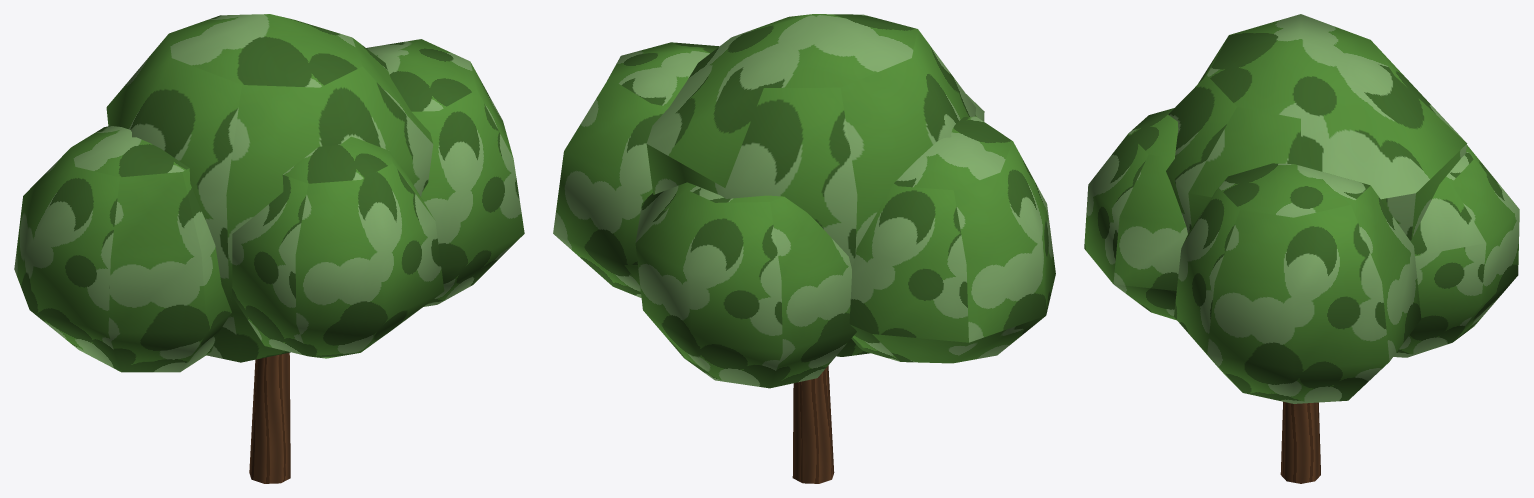
The model's file is env_oak.glb.
The picture shows the model from 3 angles, left to right: view 1: azimuth 30°, elevation 25°; view 2: azimuth 150°, elevation 25°; view 3: azimuth 270°, elevation 25°; orthographic projection. The views are drawn at different scales.
Parts seen in each view (by area): view 1: env_oak; view 2: env_oak; view 3: env_oak.
Part boxes in pixels (x1,y1,x2,y2): env_oak: [14, 14, 524, 483]; env_oak: [553, 14, 1055, 483]; env_oak: [1084, 14, 1519, 483].
Size of the model in its own units: 7.17 by 6.66 by 6.04.
Materials: 1 (1 with a texture image).
